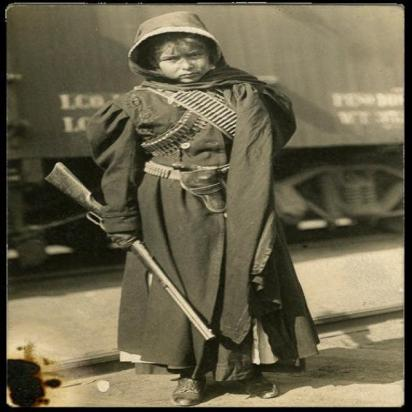Gun: (41, 159, 221, 340)
